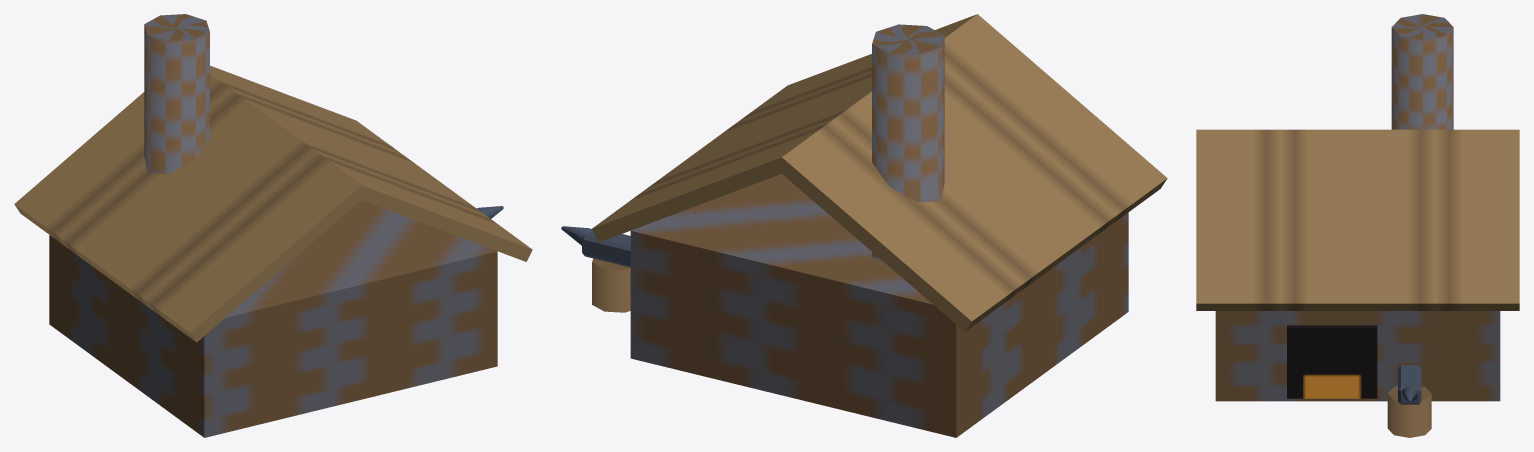
The model's file is prop_forge_9c10.glb.
3 views of the same model, side by side, from view 1: azimuth 30°, elevation 25°; view 2: azimuth 150°, elevation 25°; view 3: azimuth 270°, elevation 25° (orthographic). The views are drawn at different scales.
Visible parts, largest first — view 1: prop_forge_9c10; view 2: prop_forge_9c10; view 3: prop_forge_9c10.
Part boxes in pixels (<box>): prop_forge_9c10: <box>14,14,532,437</box>; prop_forge_9c10: <box>561,14,1167,437</box>; prop_forge_9c10: <box>1196,14,1519,437</box>.
Size of the model in its own units: 3.11 by 2.12 by 2.21.
1 material, 1 textured.
